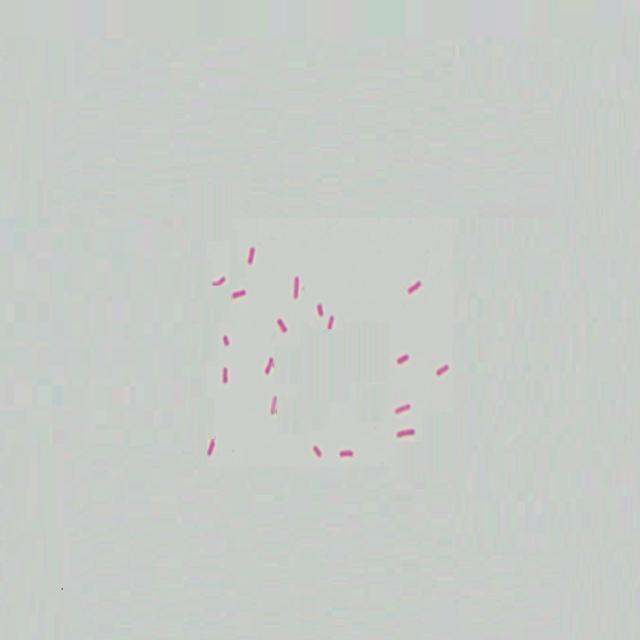E-coli: (395, 424, 421, 447), (393, 398, 413, 420), (435, 359, 454, 382), (210, 271, 228, 295), (406, 276, 422, 301), (394, 348, 412, 370), (261, 356, 279, 378), (325, 310, 339, 337), (246, 242, 260, 268), (205, 436, 219, 462), (338, 444, 356, 464), (291, 273, 301, 307), (231, 286, 247, 304), (268, 397, 281, 419), (221, 363, 231, 389), (309, 446, 324, 461), (278, 317, 288, 339), (314, 302, 325, 322), (220, 333, 232, 349)
